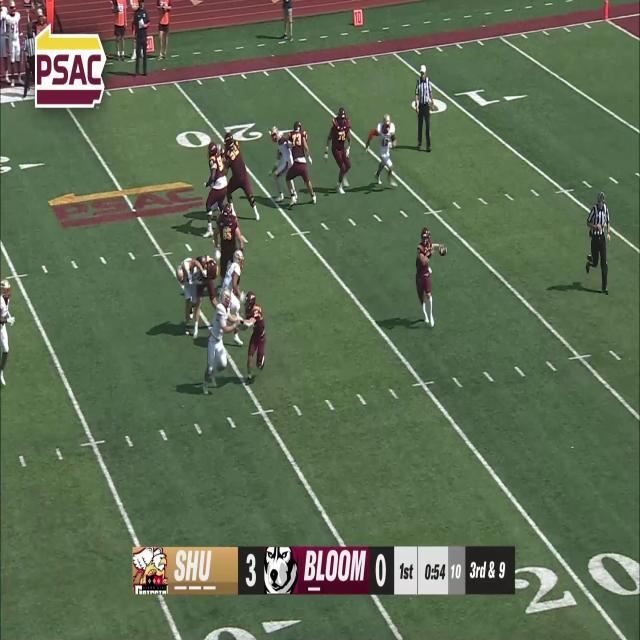football: (437, 243, 447, 256)
